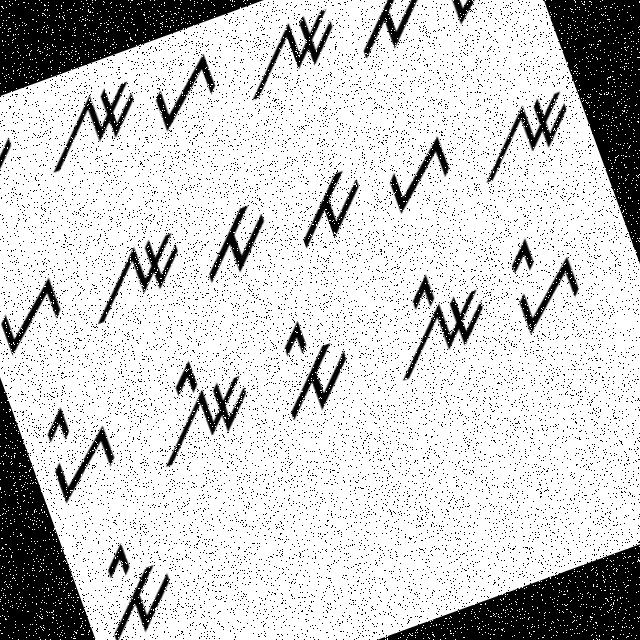ha: (364, 124, 466, 222), (138, 45, 228, 134), (0, 266, 80, 362), (432, 0, 528, 32)
hi: (24, 386, 132, 514), (488, 219, 598, 344)
mba: (182, 188, 286, 292), (279, 157, 382, 256), (335, 0, 439, 67), (0, 113, 37, 222)
mbi: (75, 521, 189, 639), (262, 302, 371, 424)
nda: (66, 220, 200, 337), (460, 76, 590, 194), (226, 1, 355, 112), (30, 73, 156, 181)
ndi: (368, 246, 507, 389), (124, 336, 268, 474)
